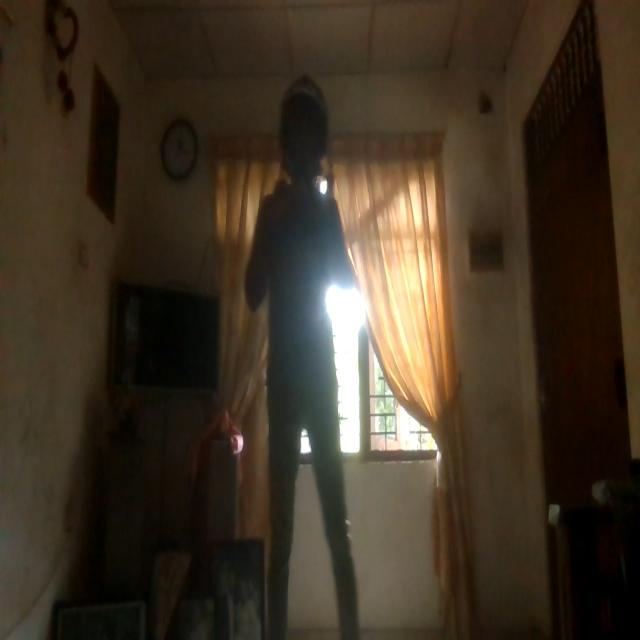Helmet_Wearer: (270, 76, 332, 209)
Person: (243, 74, 350, 640)
